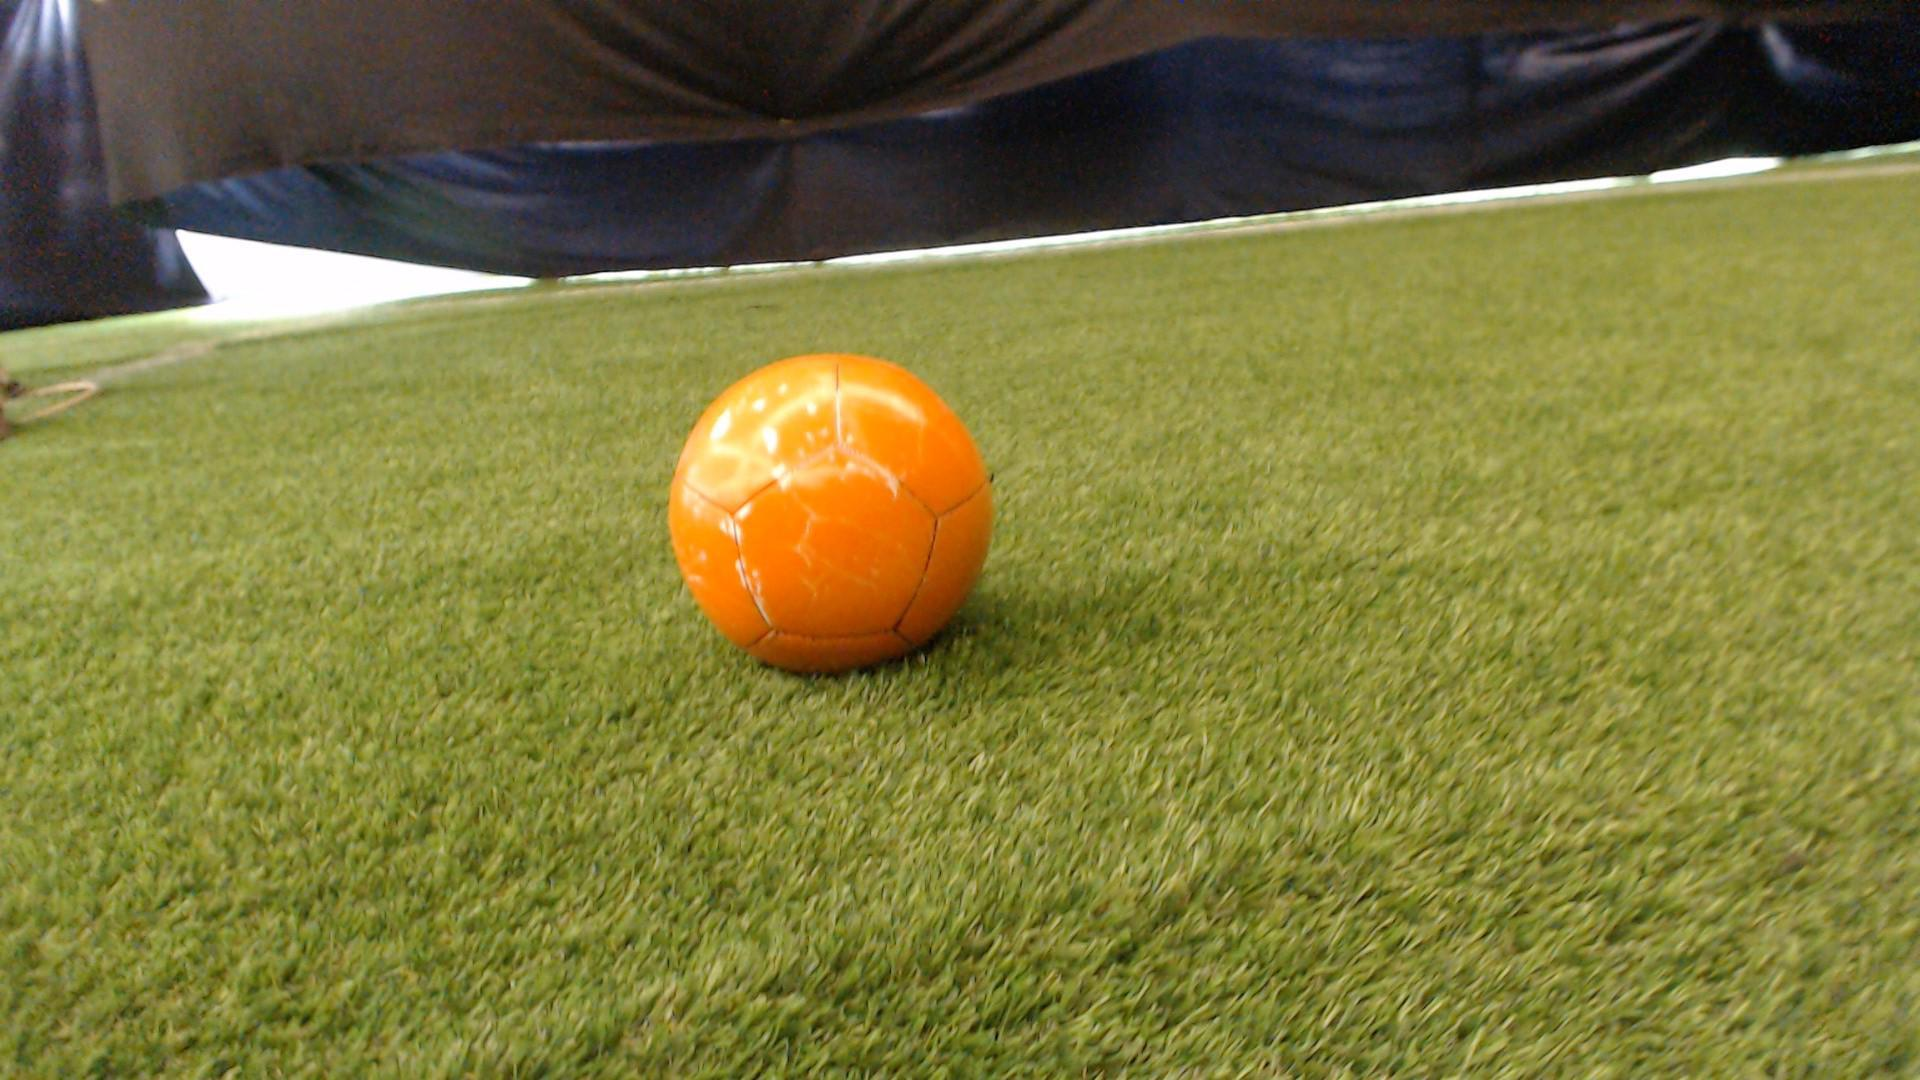bola: (661, 339, 1023, 694)
